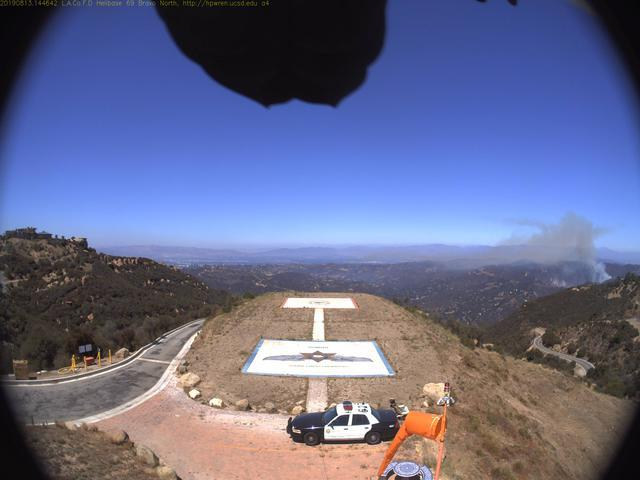smoke: (462, 211, 615, 288)
